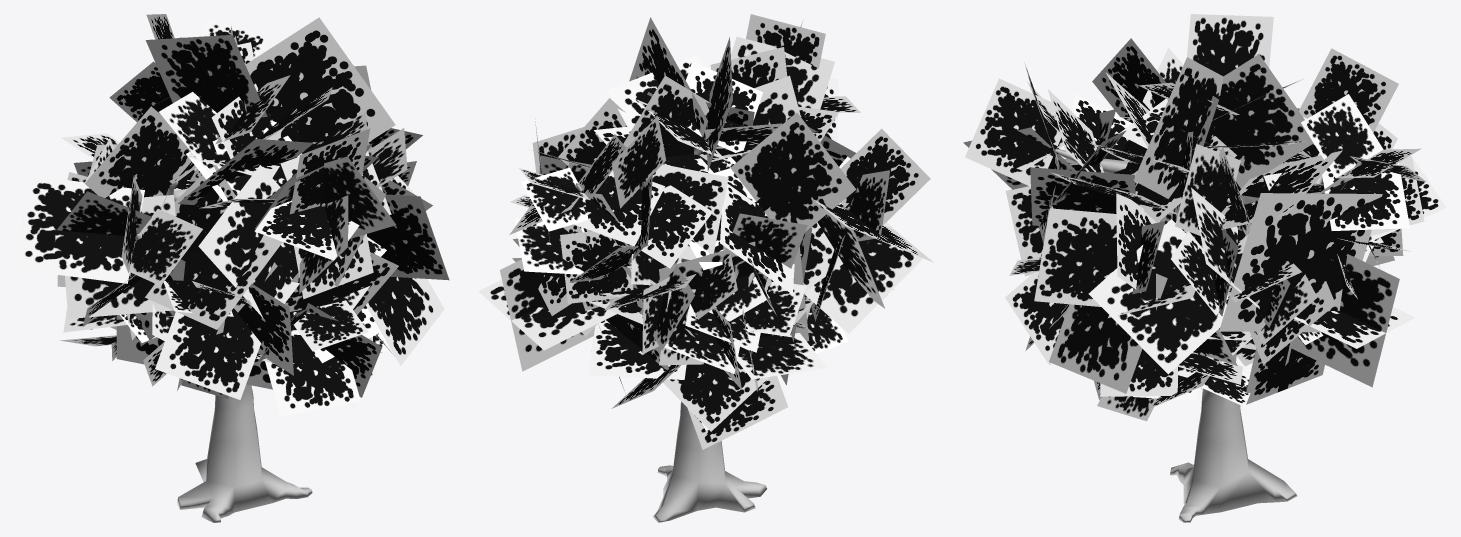
File: M_Tree_1.fbx
3 renders of one model, left to right at view 1: azimuth 30°, elevation 25°; view 2: azimuth 150°, elevation 25°; view 3: azimuth 270°, elevation 25°, orthographic. The views are drawn at different scales.
Visible parts, largest first — view 1: pPlane169, Tree; view 2: pPlane169, Tree; view 3: pPlane169, Tree.
Boxes of the visible parts, x1,y1,x2,y2 form: pPlane169: (14, 14, 449, 416); Tree: (135, 181, 325, 522); pPlane169: (478, 14, 933, 449); Tree: (575, 137, 850, 522); pPlane169: (963, 14, 1446, 421); Tree: (1053, 148, 1361, 522).
Size of the model in its own units: 29.7 by 30.18 by 32.49.
